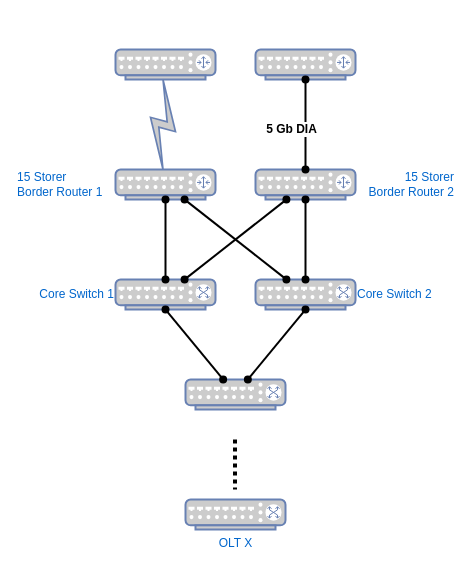
This 470x567 diagram has some shape labels left out. The centre of each missing label's shape, as x and y in pixels:
7 Teleport Border Router: [165,64]
OLT 1: [235,394]
Second Upstream Border Router: [305,64]
